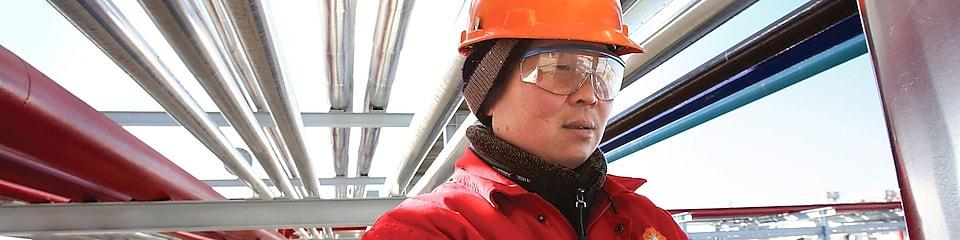helmet: (458, 1, 649, 57)
